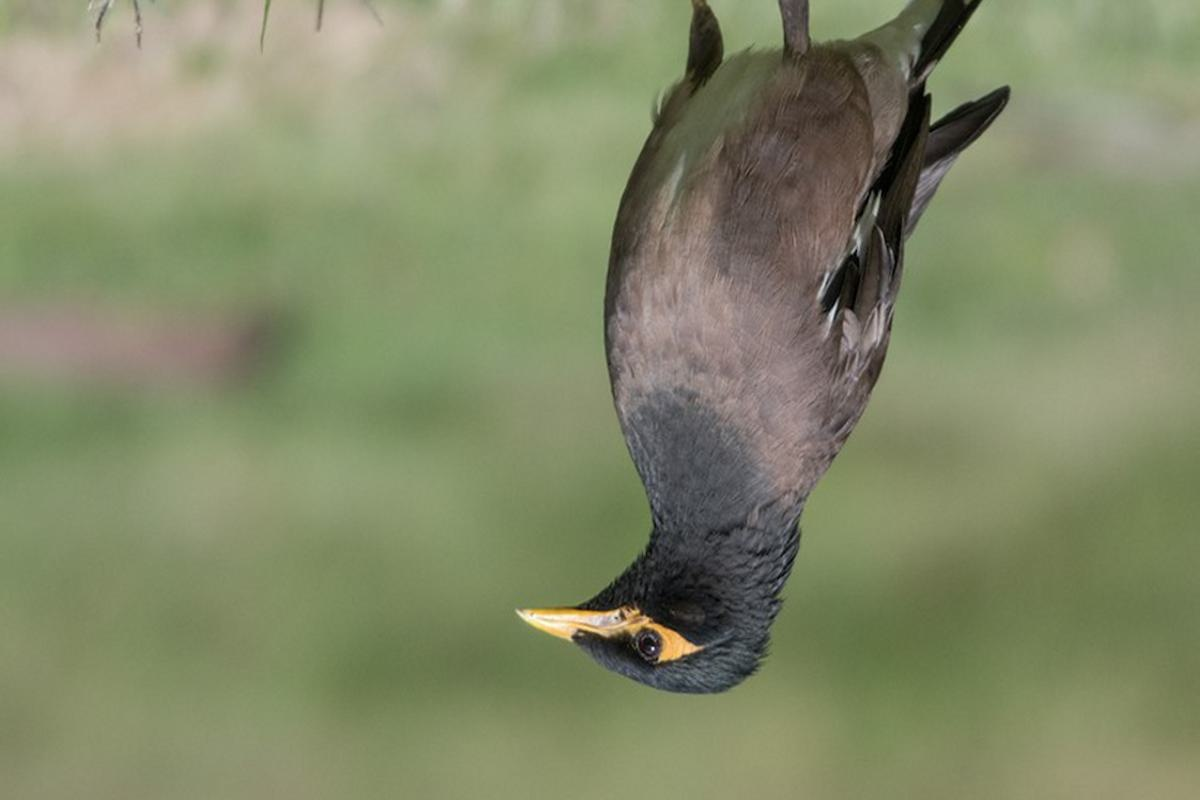myna: (519, 42, 1014, 717)
